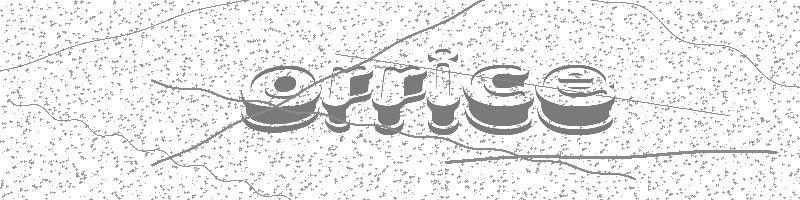c: (463, 64, 534, 137)
e: (536, 64, 617, 136)
i: (426, 47, 461, 136)
o: (240, 64, 322, 135)
r: (372, 66, 426, 136), (323, 64, 373, 134)
